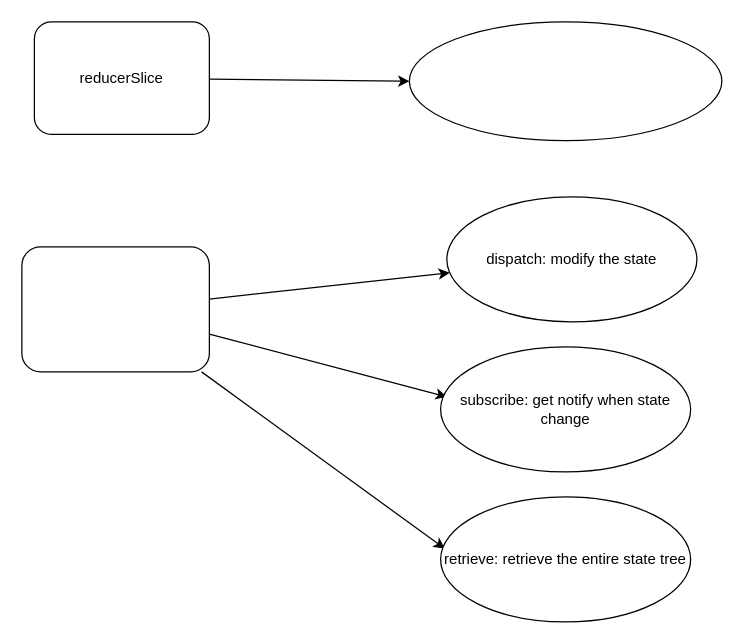
The diagram is 744 pixels wide and 644 high, and some of its shapes have lost their labels. The shapes that lost their labels are listed below. From the top down, each one's centre as x and y in pixels, then its label:
[565,81]: defiends initial states and callable actions
[115,309]: reducerStore "configureStore()"
